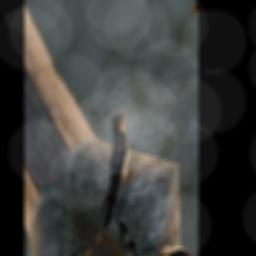Swallow: (65, 98, 155, 242)
